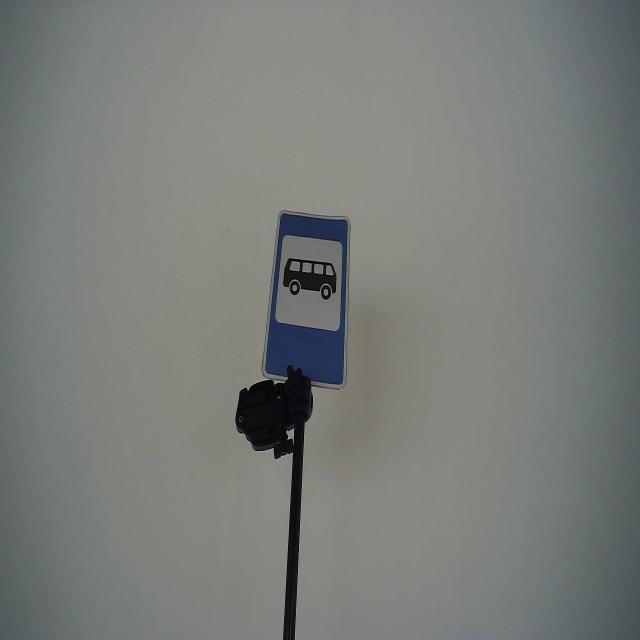bus_stop: (260, 206, 354, 394)
